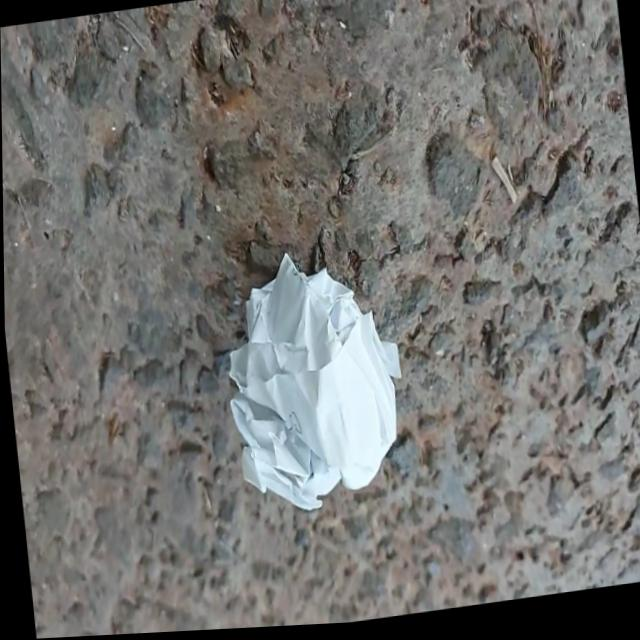paper: (230, 254, 399, 509)
